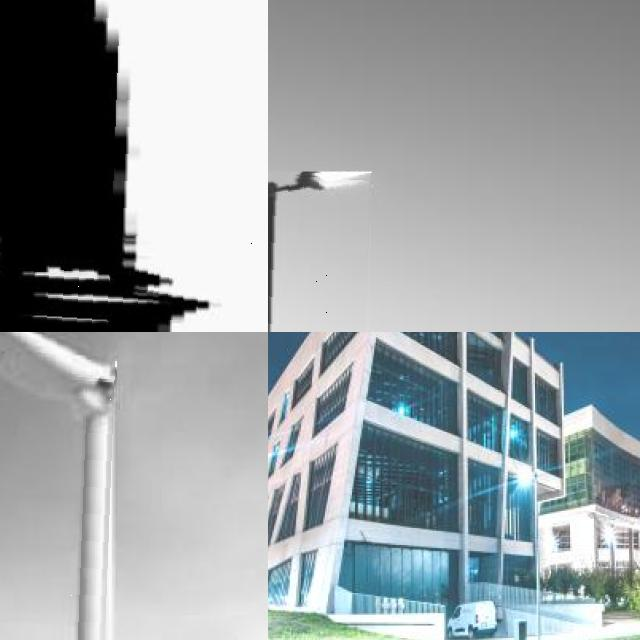street light: (0, 0, 268, 332), (0, 332, 117, 640), (268, 173, 372, 332), (519, 470, 542, 640), (548, 540, 560, 587)
